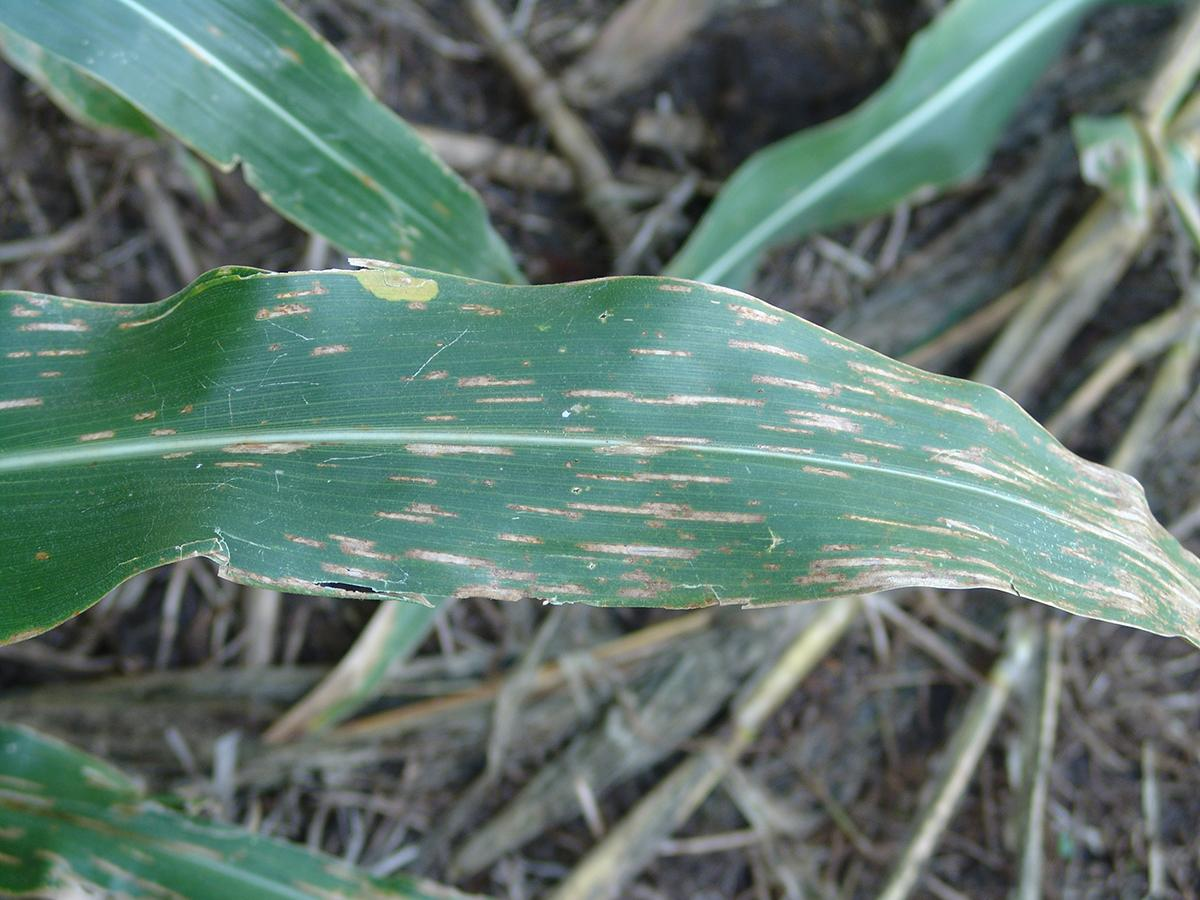Corn leaf blight: (7, 275, 1199, 650)
